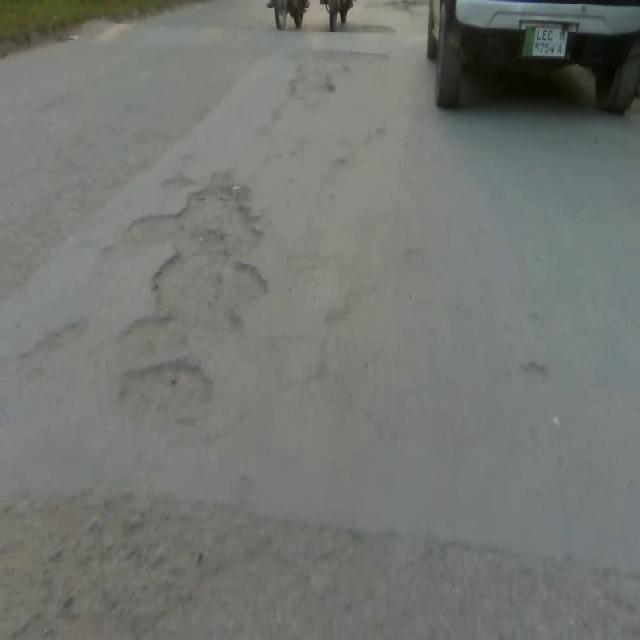pothole: (95, 166, 262, 355), (124, 365, 206, 422)
